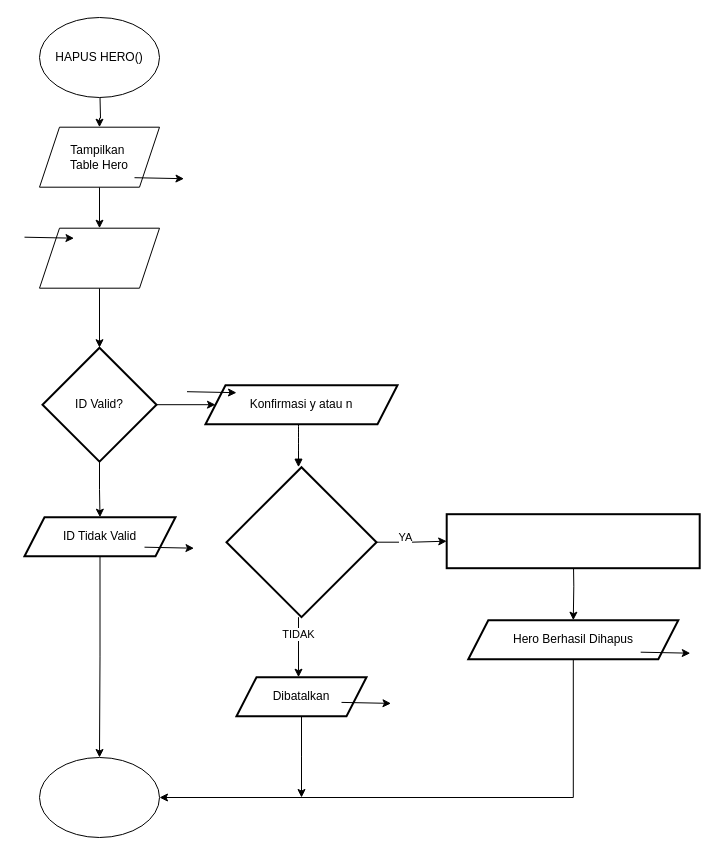
The diagram is 718 pixels wide and 855 high, and some of its shapes have lost their labels. The shapes that lost their labels are listed below. From the top down, each one's centre as x and y in pixels, then its label:
At pixel 99 257: "Input ID Hero".
At pixel 301 542: "konfirm == y?".
At pixel 572 541: "Geser Array jumlahHero--".
At pixel 99 797: "END".
